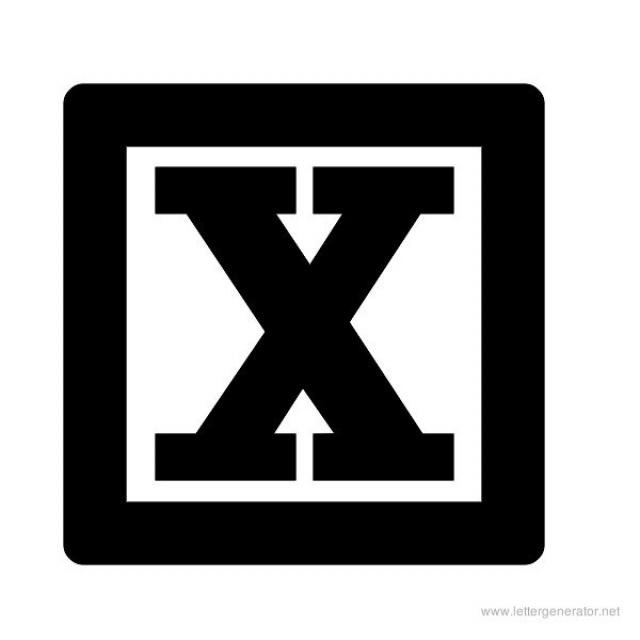X: (134, 150, 471, 494)
